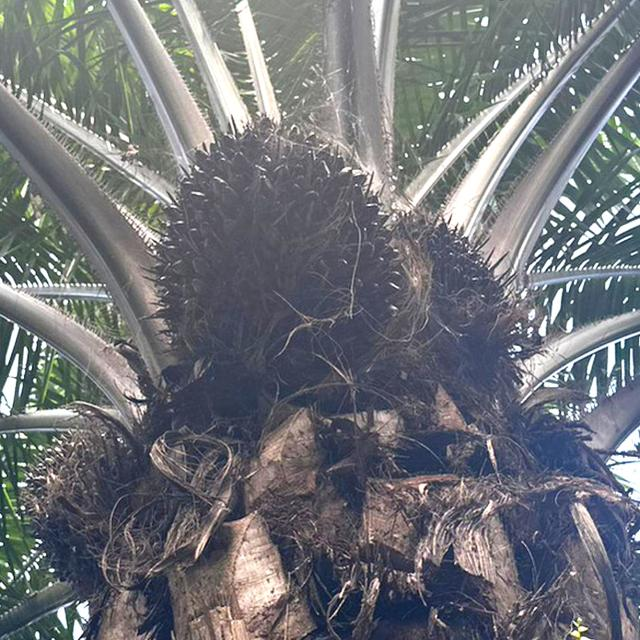ripe: (126, 99, 418, 402)
